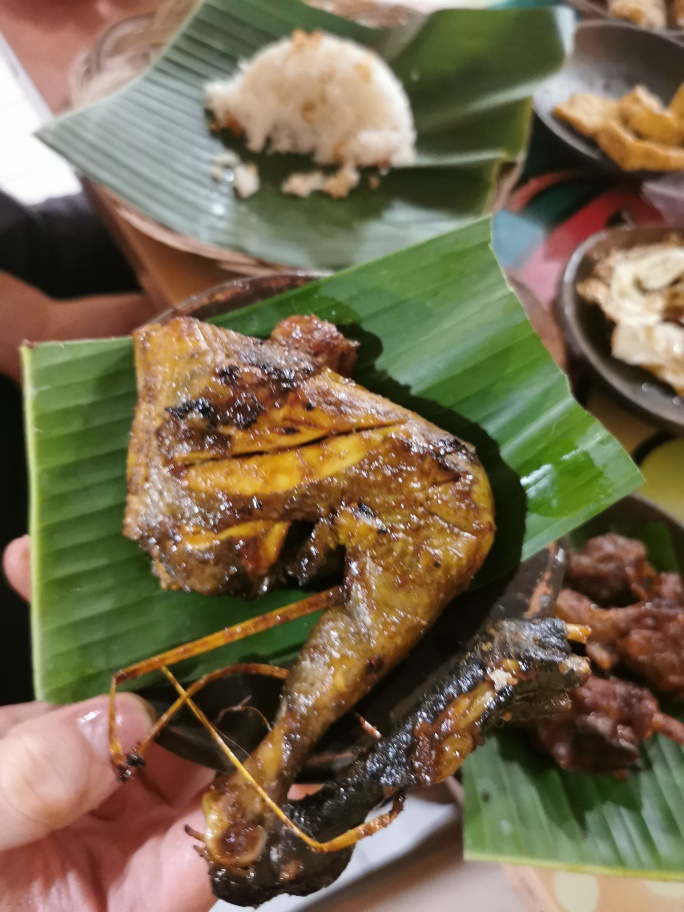ayam bakar: (123, 309, 597, 900)
